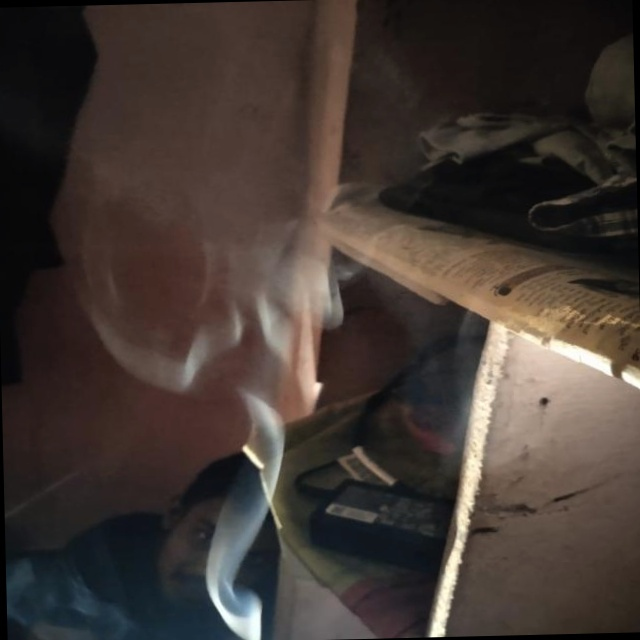smoke: (111, 241, 311, 640)
